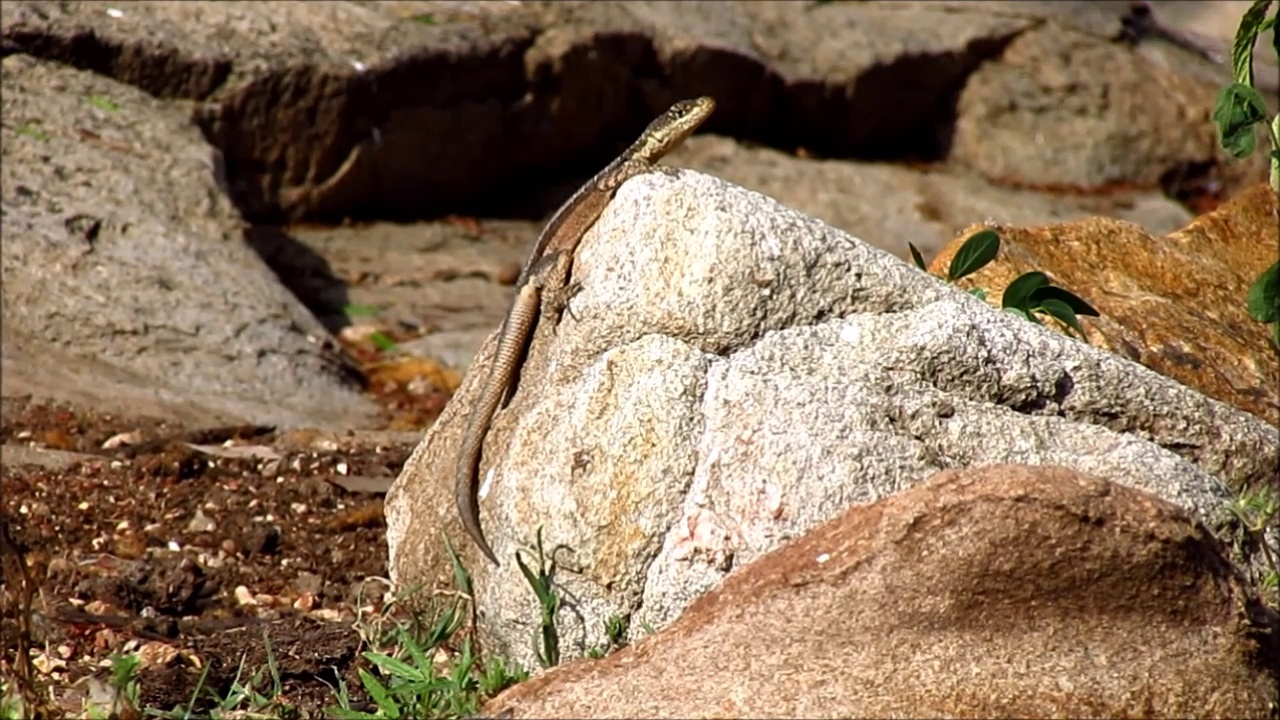body: (454, 137, 641, 567)
head: (642, 95, 716, 154)
